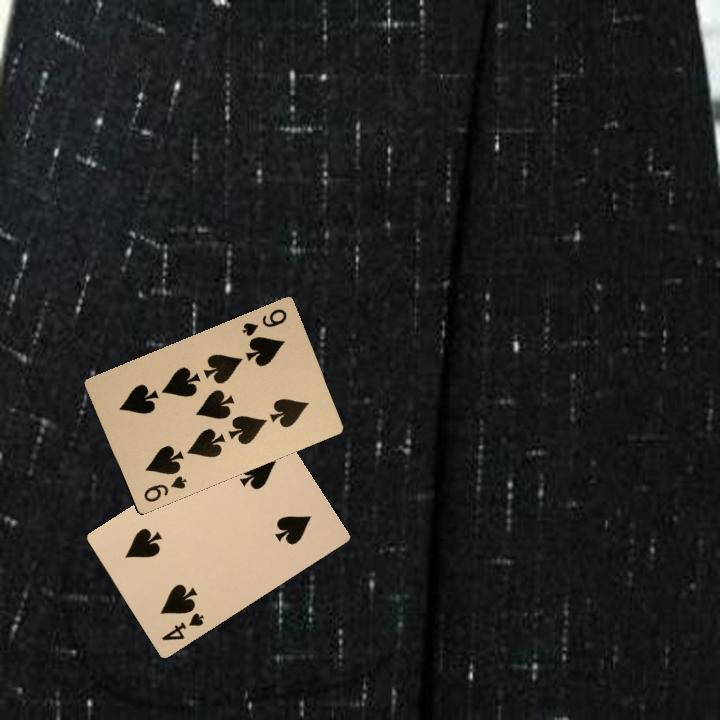4s: (157, 608, 206, 643)
9s: (238, 304, 289, 339), (140, 472, 189, 505)
